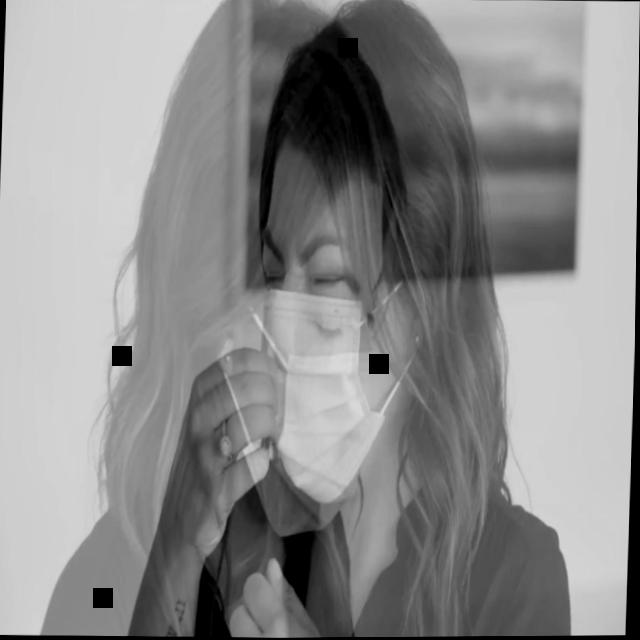Mask: (256, 141, 417, 498)
